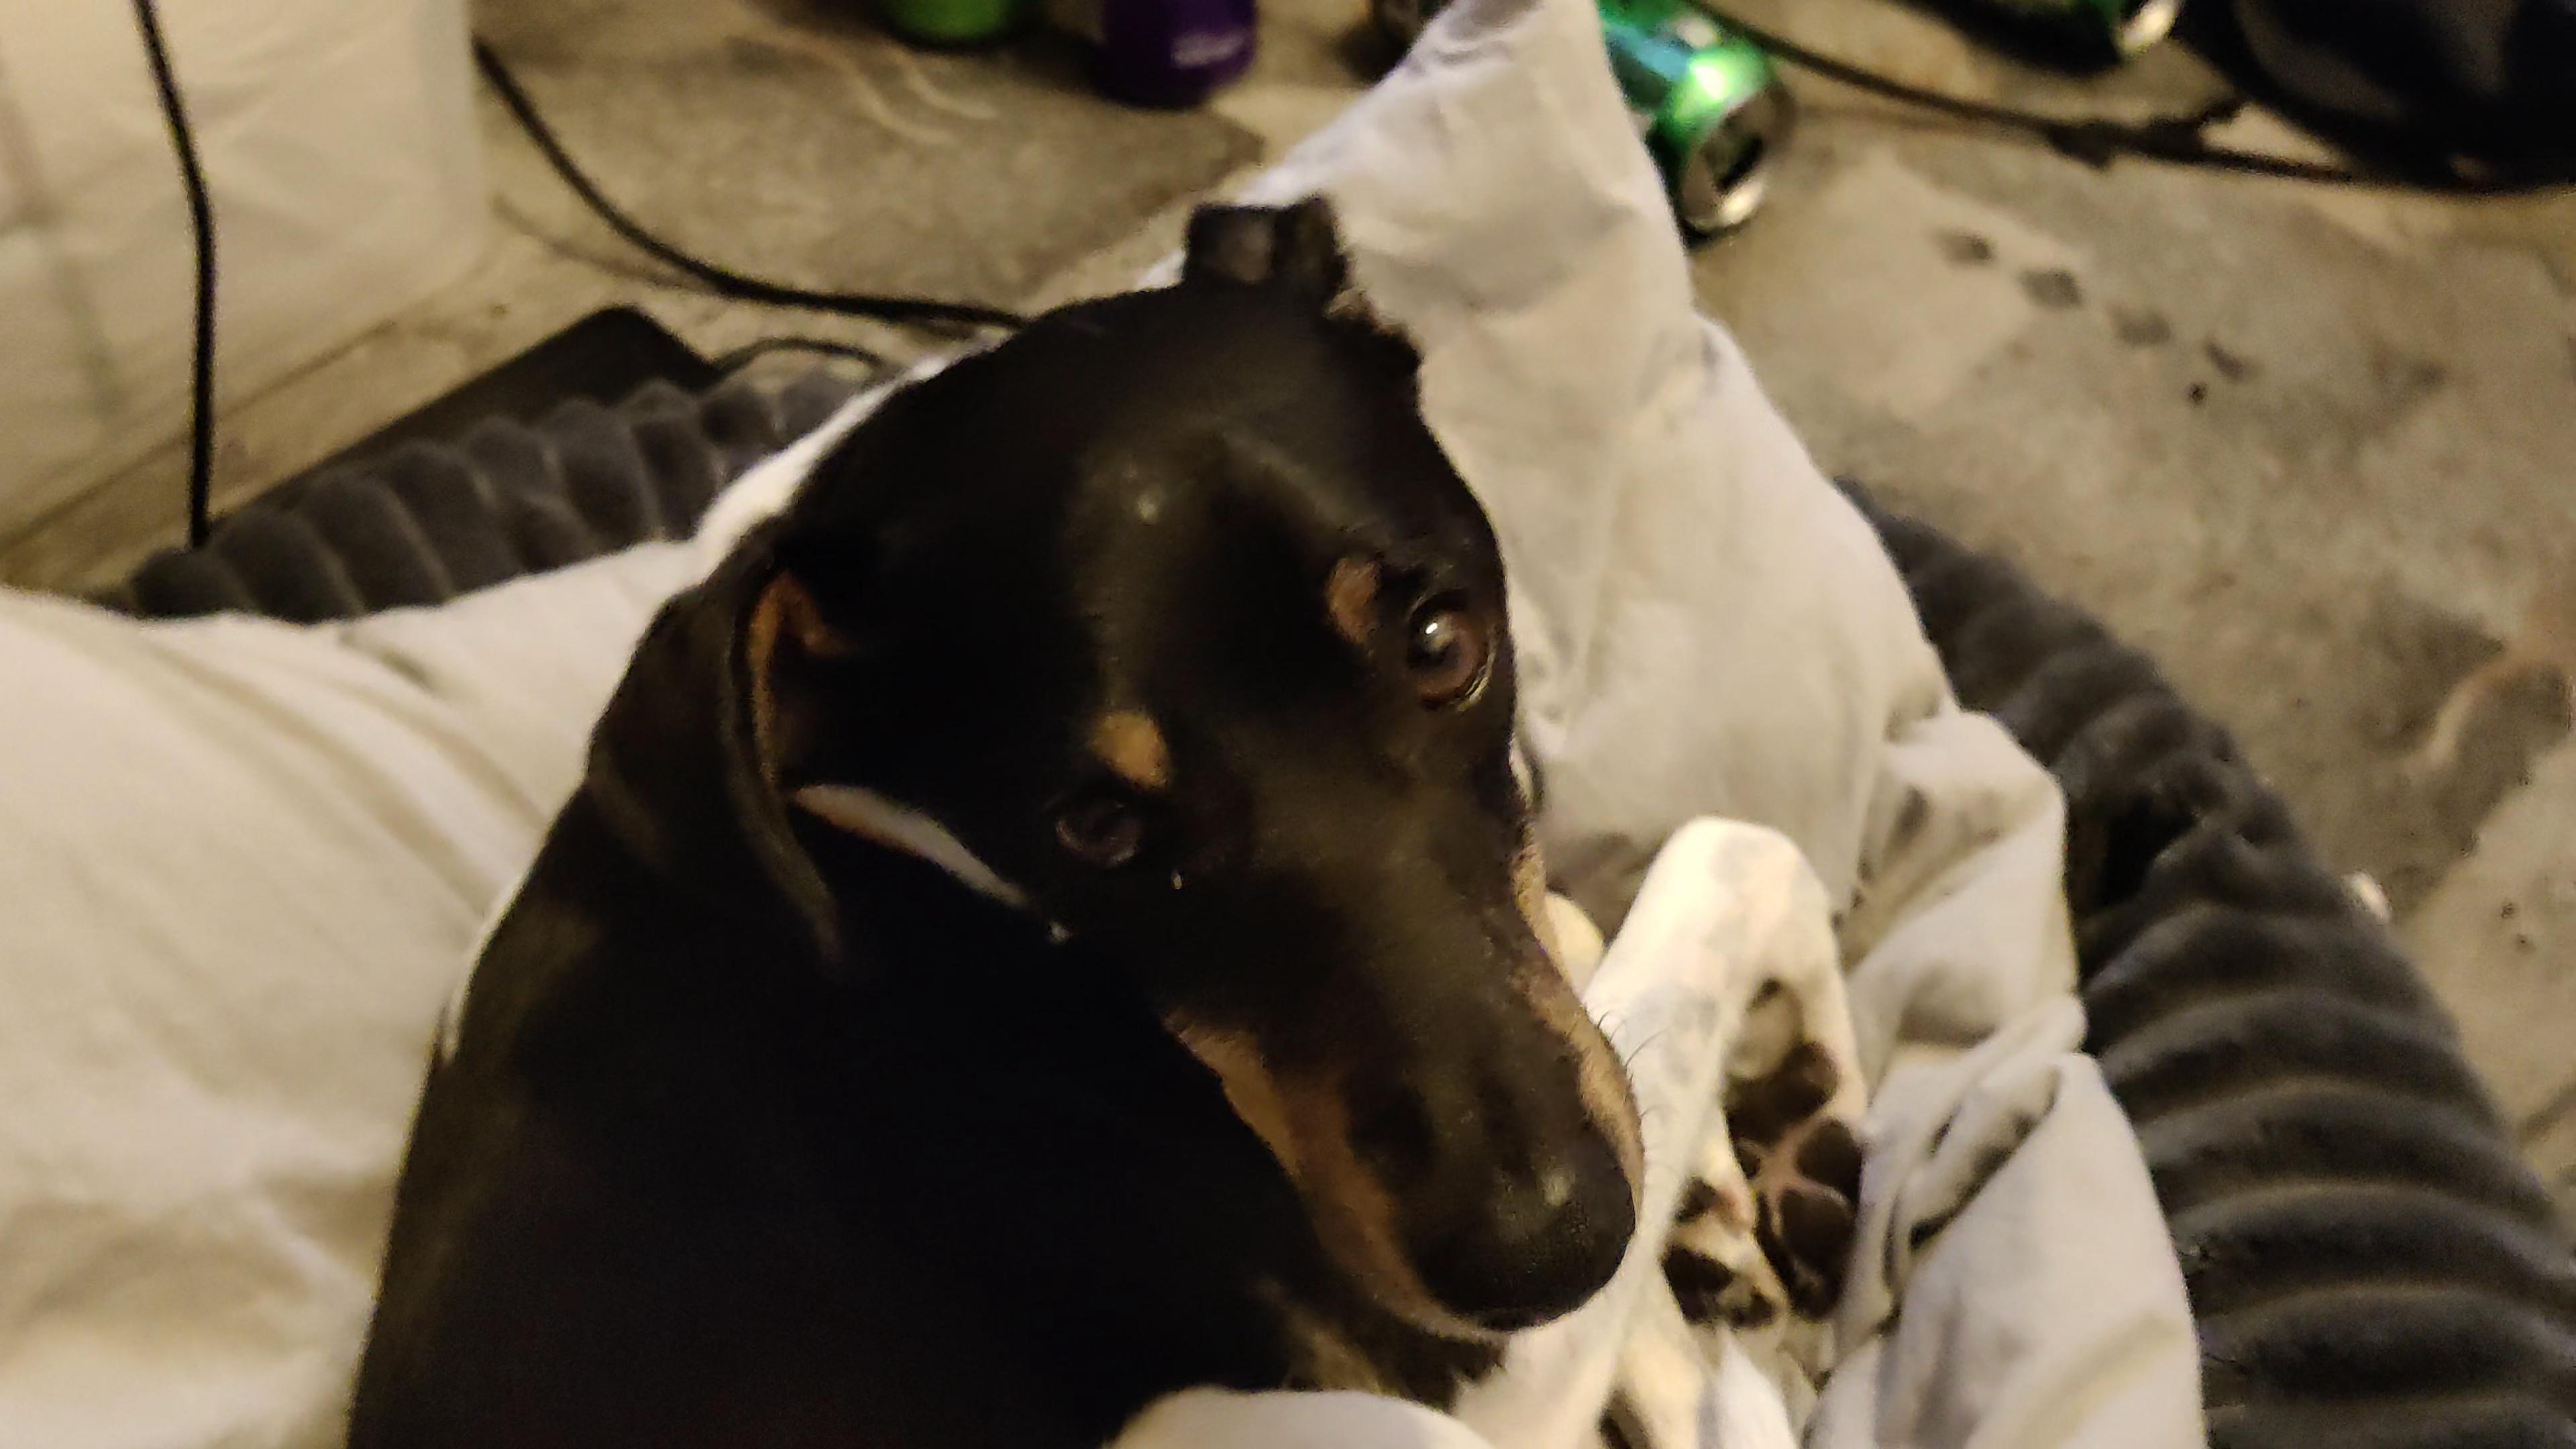Dog: (326, 170, 1890, 1449)
